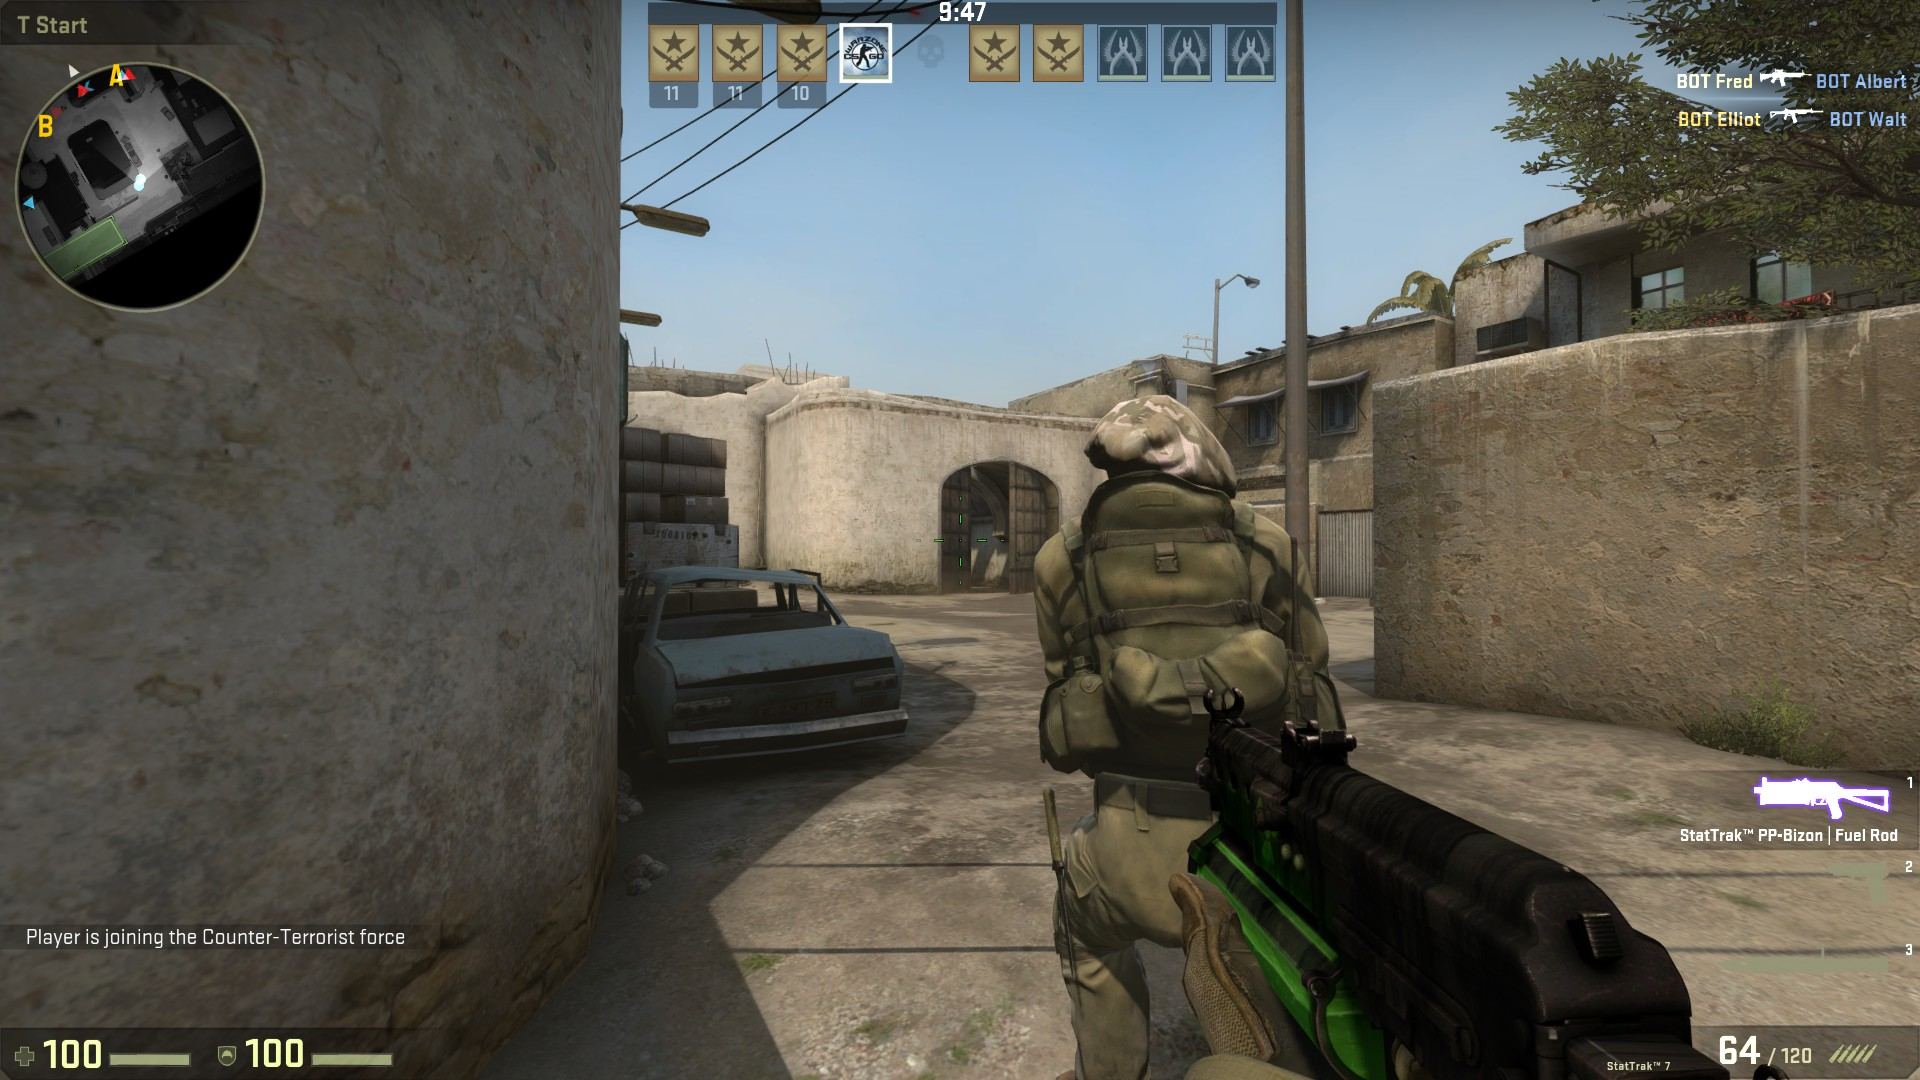c: (1021, 386, 1331, 1007)
ch: (1089, 378, 1242, 516)
